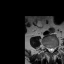CCS_normal: (50, 45, 52, 55)
LFS_normal: (54, 44, 57, 51)
LLS_normal: (52, 45, 54, 53)
RFS_normal: (46, 44, 48, 51)
RLS_normal: (48, 45, 50, 53)
